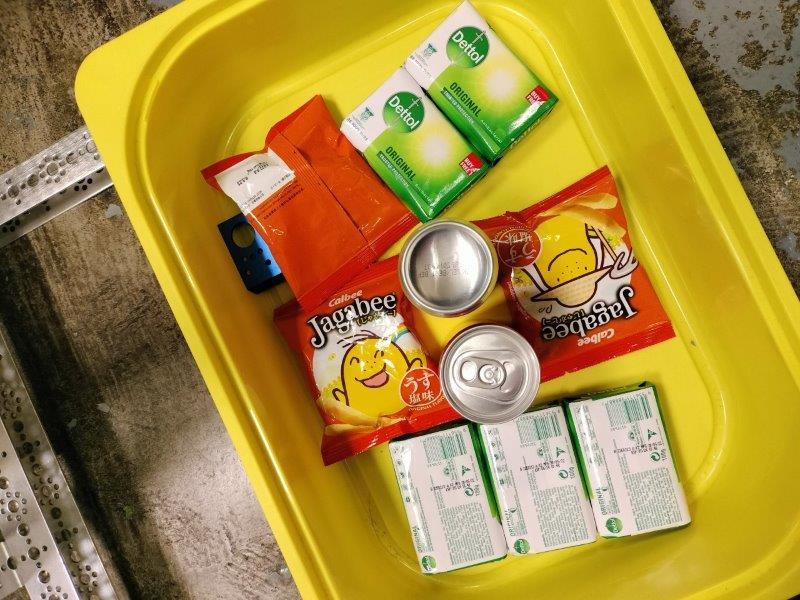Coke: (441, 324, 542, 421), (401, 222, 497, 316)
Dettol: (404, 1, 560, 166), (340, 68, 491, 221), (570, 386, 690, 541), (479, 403, 599, 554), (391, 424, 509, 577)
Jagabee: (203, 96, 416, 308), (474, 168, 673, 382), (274, 258, 462, 464)
